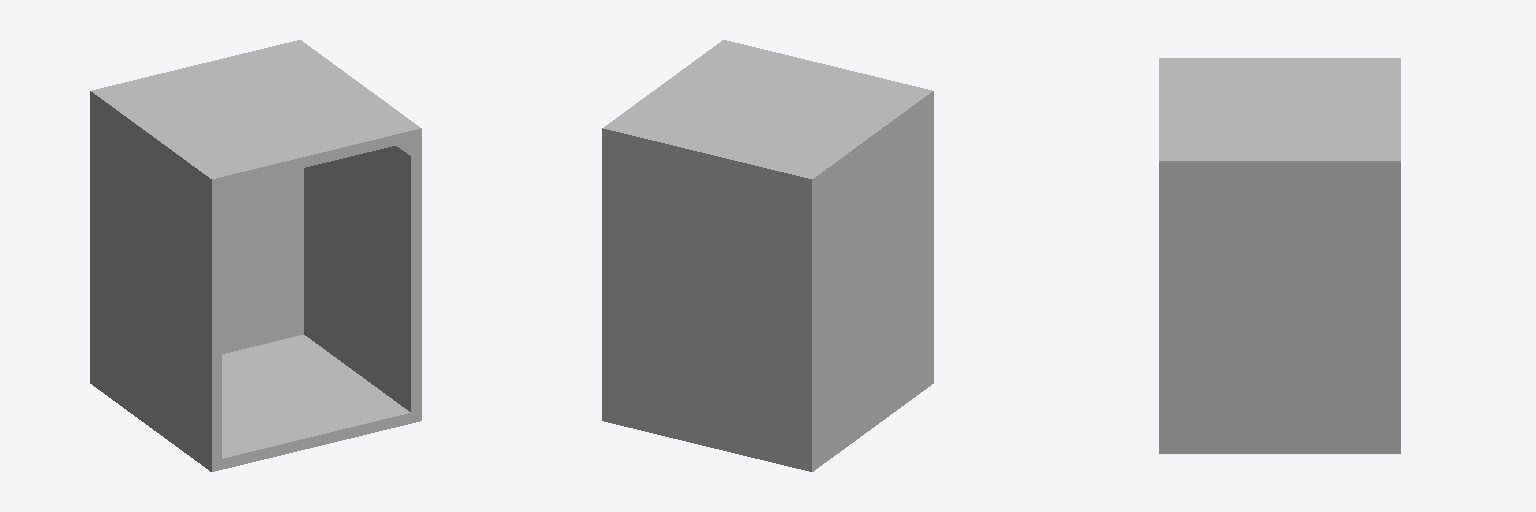
The picture shows the model from 3 angles: view 1: azimuth 30°, elevation 25°; view 2: azimuth 150°, elevation 25°; view 3: azimuth 270°, elevation 25°; orthographic projection.
Parts seen in each view (by area): view 1: Body.003; view 2: Body.003; view 3: Body.003.
Boxes of the visible parts, box(x1,y1,x2,y2) form: Body.003: box(90, 40, 421, 471); Body.003: box(602, 40, 933, 471); Body.003: box(1159, 58, 1400, 453).
Bounding box in the file's own units: 1.5 × 2 × 1.5.